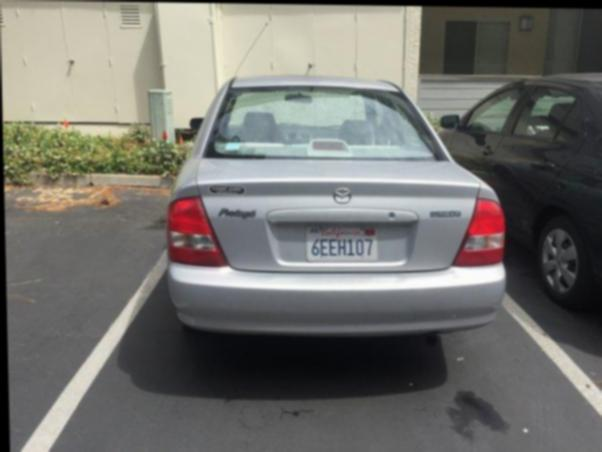License_Plate: (298, 218, 383, 270)
